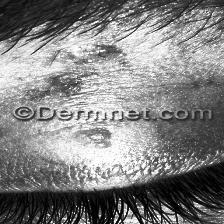Benign Marking or Mole: (39, 42, 141, 98), (71, 129, 116, 153)
